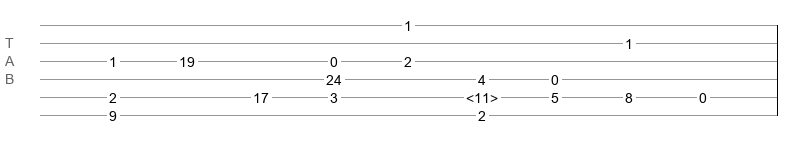0: (330, 54, 338, 64), (551, 72, 559, 82), (699, 90, 707, 100)
1: (109, 54, 117, 64), (404, 18, 412, 28), (625, 36, 633, 46)
17: (253, 90, 269, 100)
19: (179, 54, 195, 64)
2: (109, 90, 117, 100), (404, 54, 412, 64), (478, 108, 486, 118)
24: (326, 72, 342, 82)
3: (330, 90, 338, 100)
4: (478, 72, 486, 82)
5: (551, 90, 559, 100)
8: (625, 90, 633, 100)
9: (109, 108, 117, 118)
harmonic: (466, 90, 498, 100)
